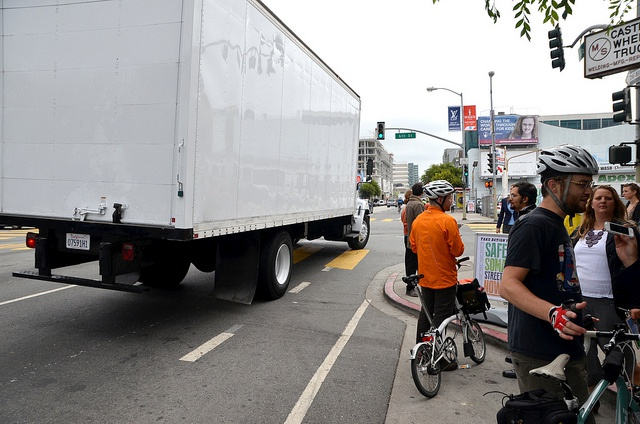non-vehicle: (527, 328, 640, 423), (407, 278, 483, 397)
